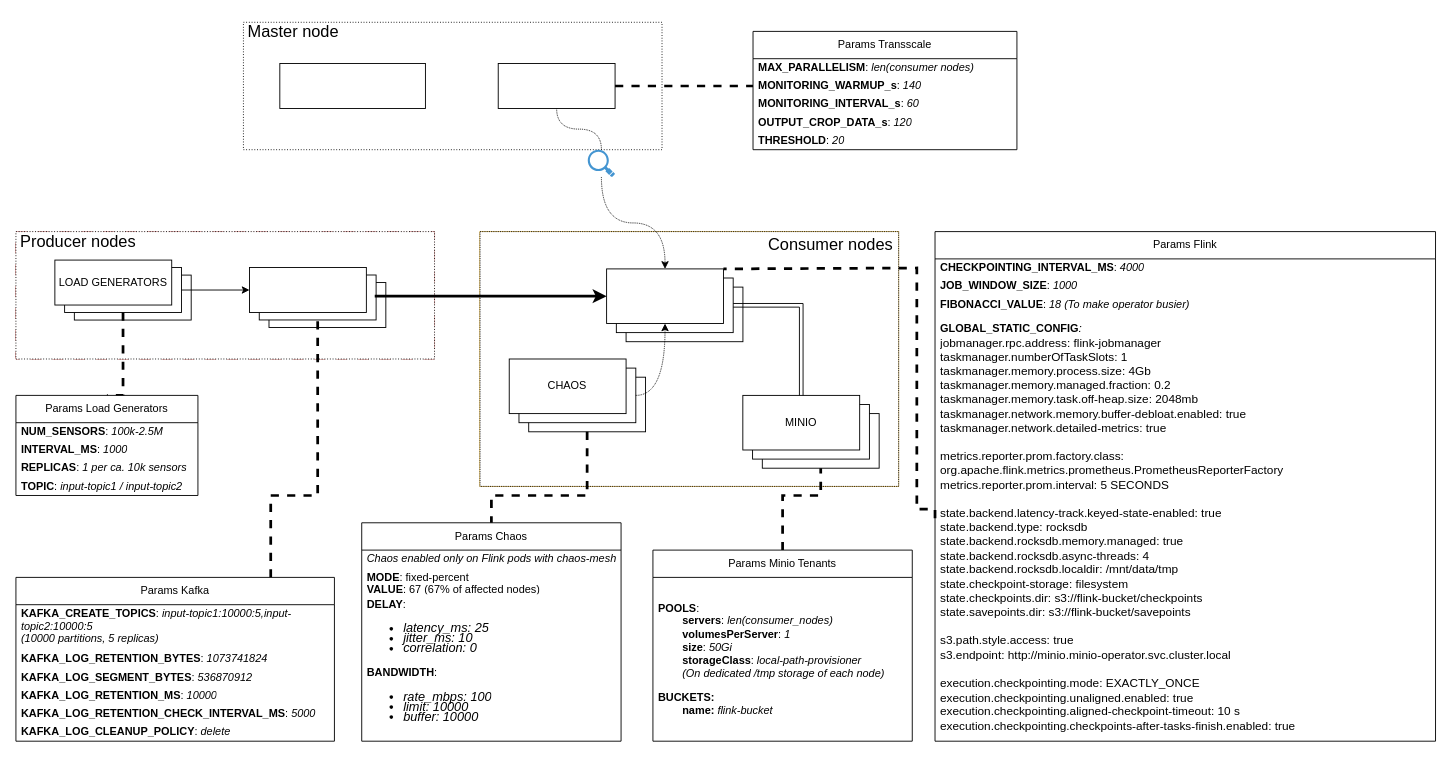
Image size: 1451x757. Some labels were removed from this diagram. Each missing label, with the centre of its shape:
"FLINK" goes at point 664,296.
"KAFKA" goes at point 307,289.
"PROMETHEUS+GRAFANA" goes at point 352,85.
"TRANSSCALE" goes at point 556,85.
